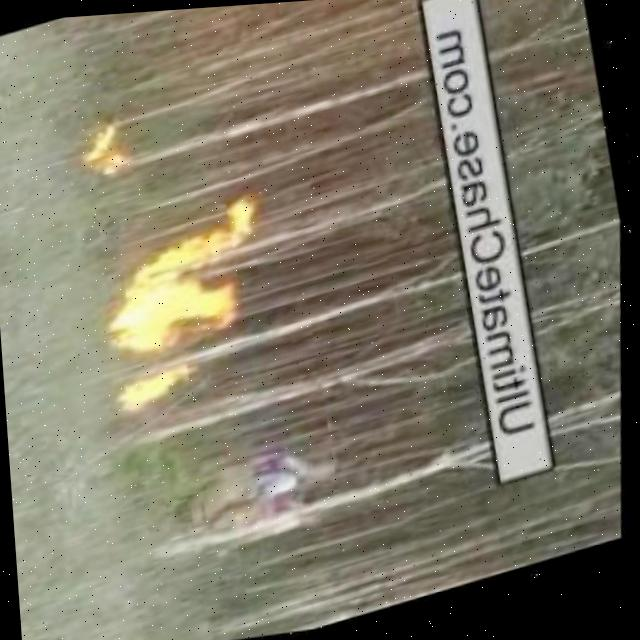fire: (92, 224, 261, 364), (113, 364, 202, 414), (78, 123, 130, 181)
